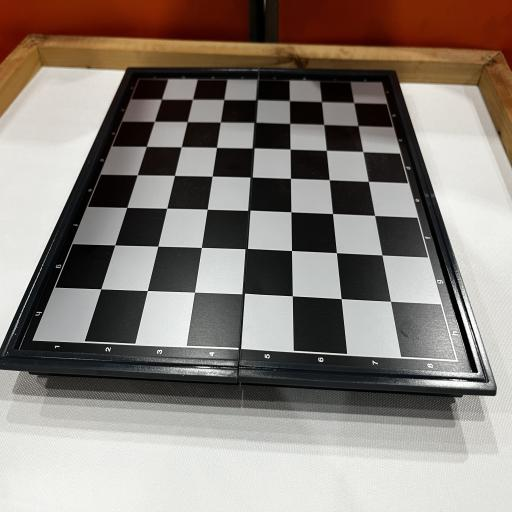Board: (0, 67, 497, 398), (0, 69, 497, 396)
